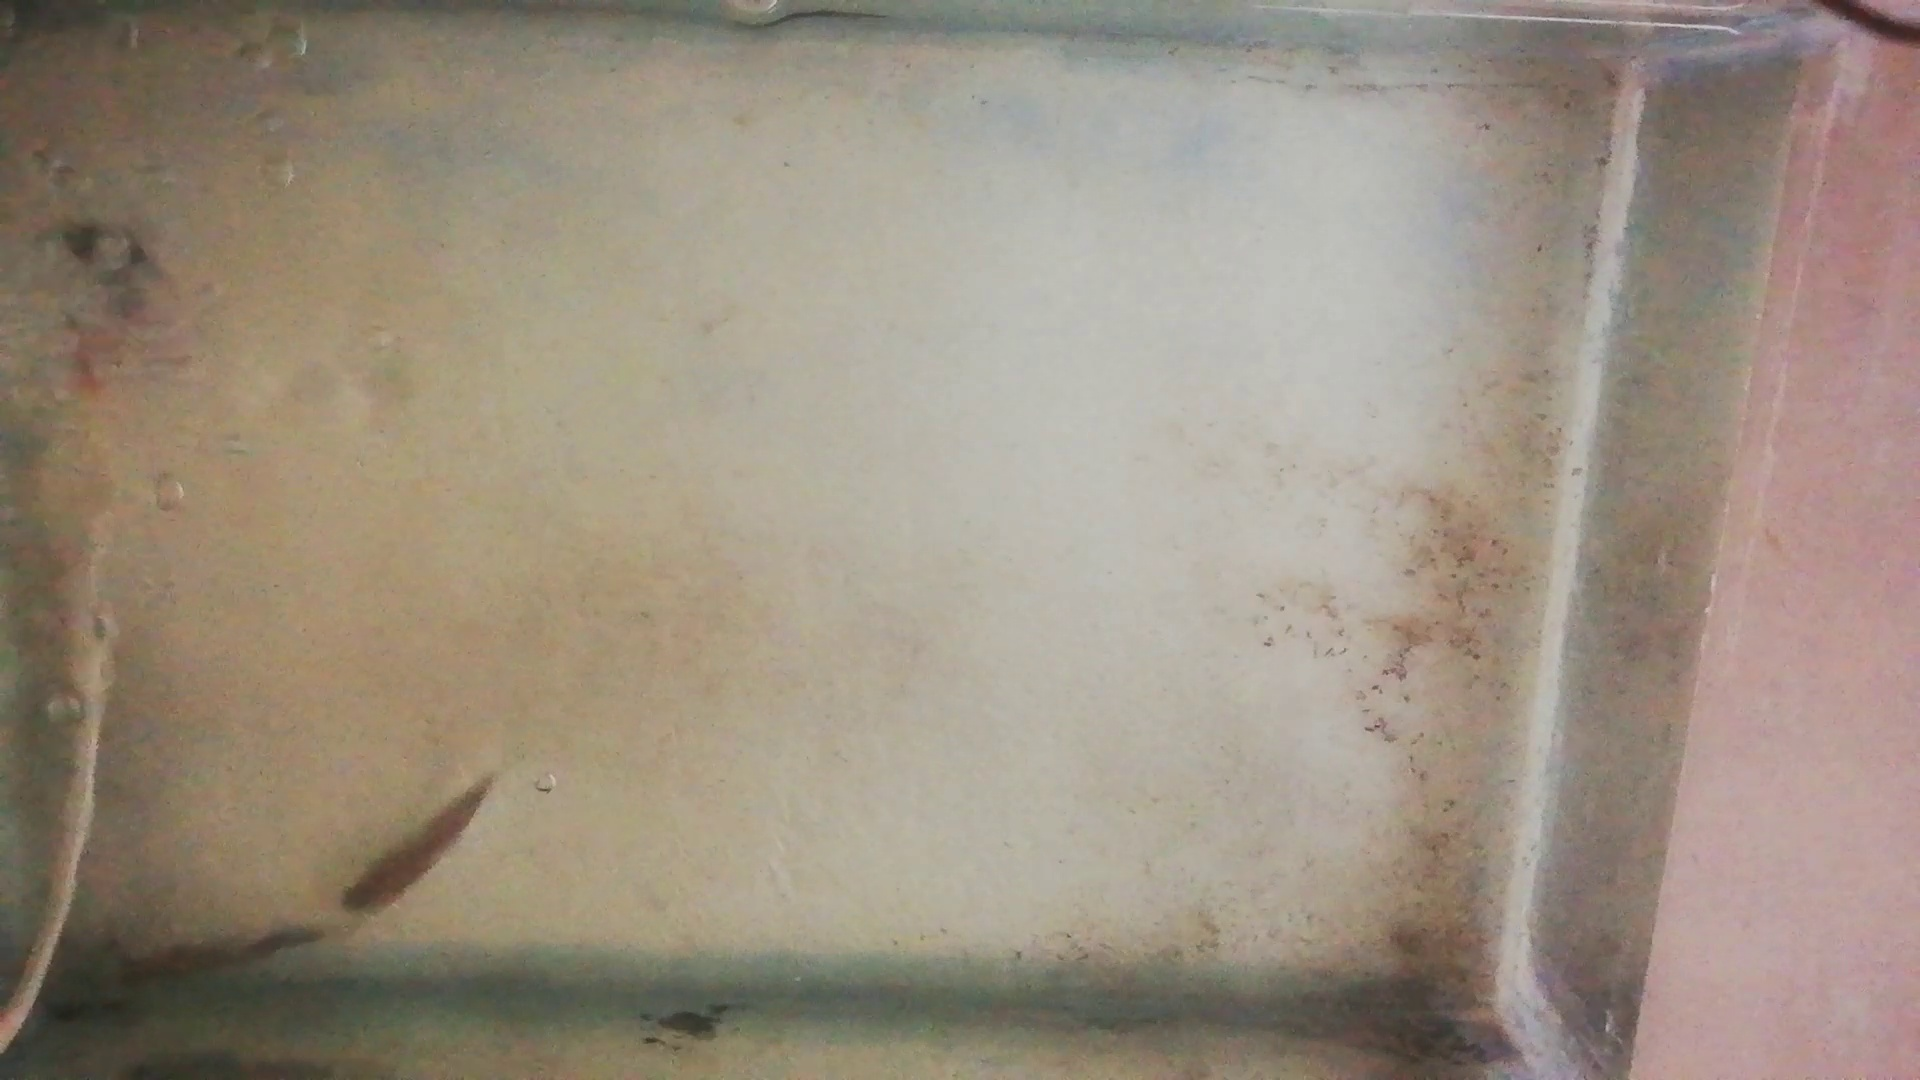fish: (339, 771, 492, 918), (117, 928, 320, 988)
